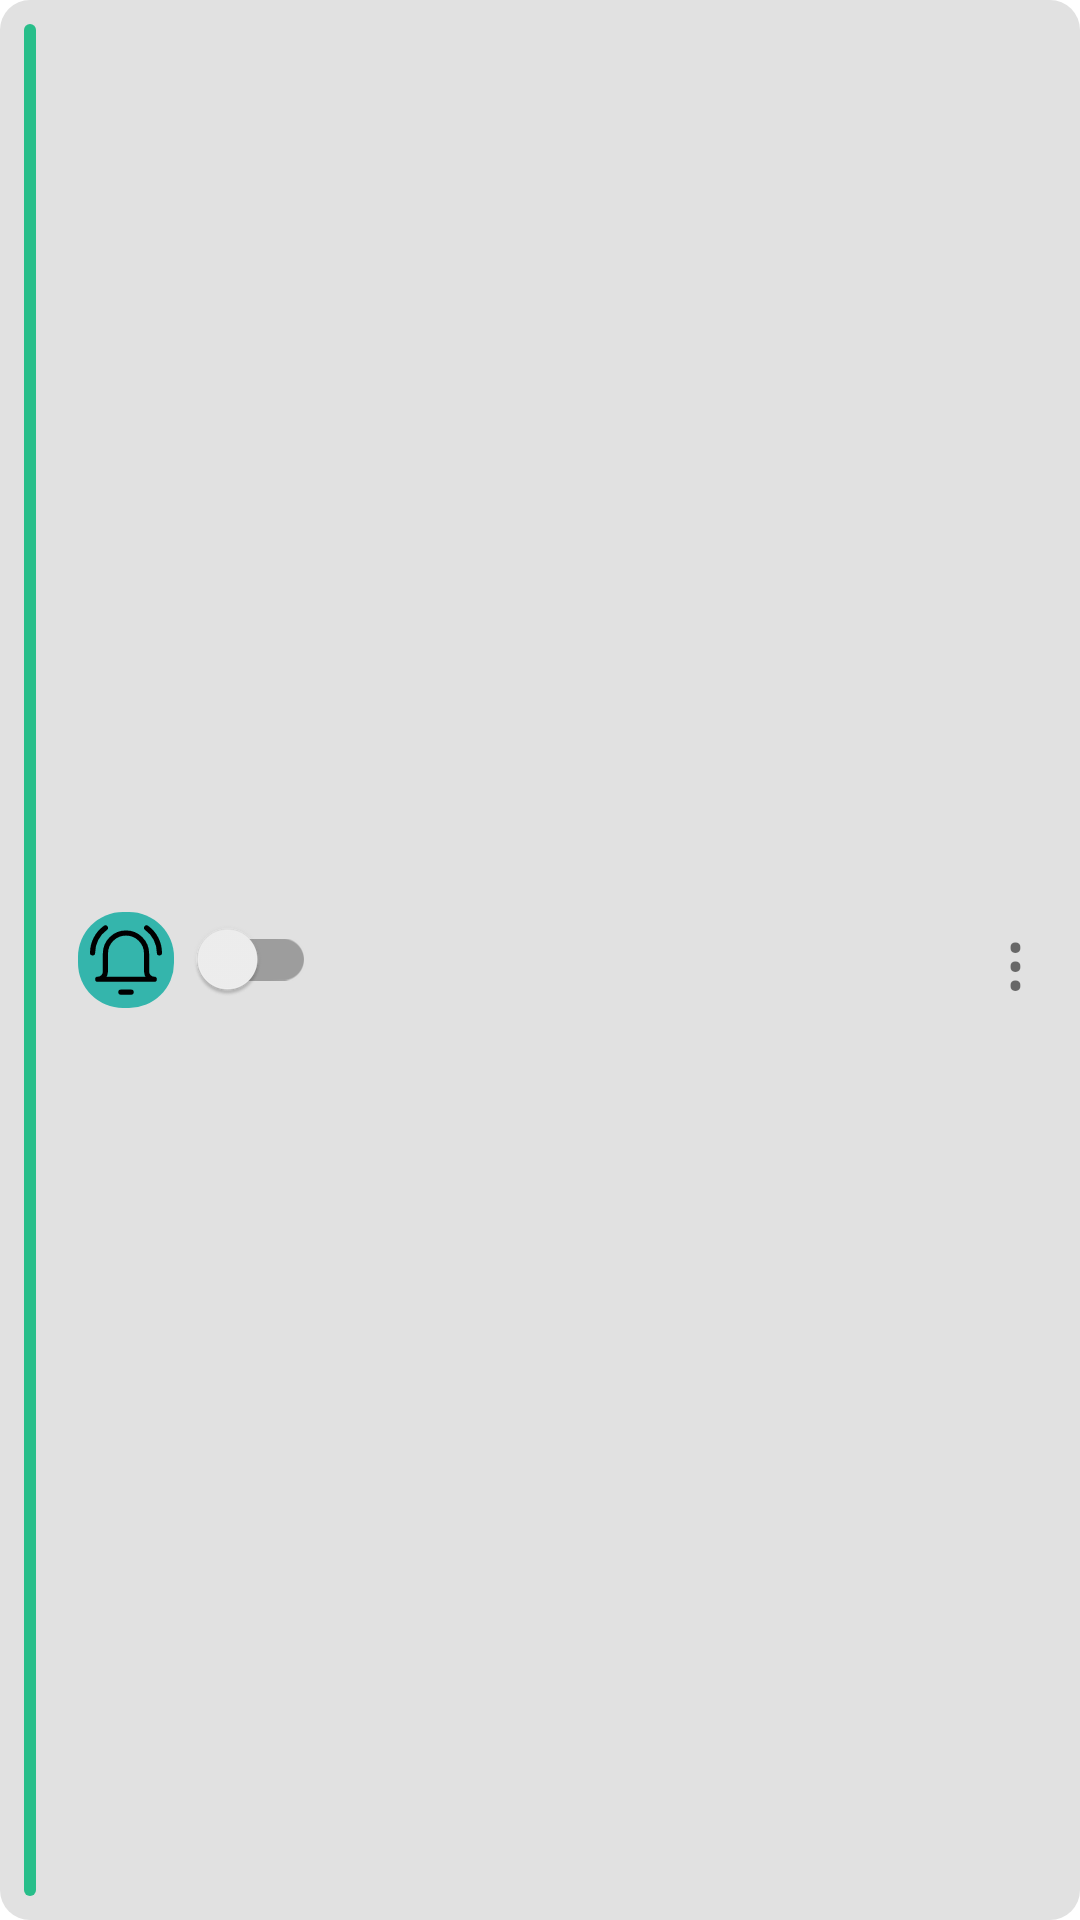

Locate icon controls on the screen. Image size 1080w x 1920h, boxes as bbox=[x1, y1, x2, y2].
Toggle notifications: bbox=[78, 912, 174, 1008]
